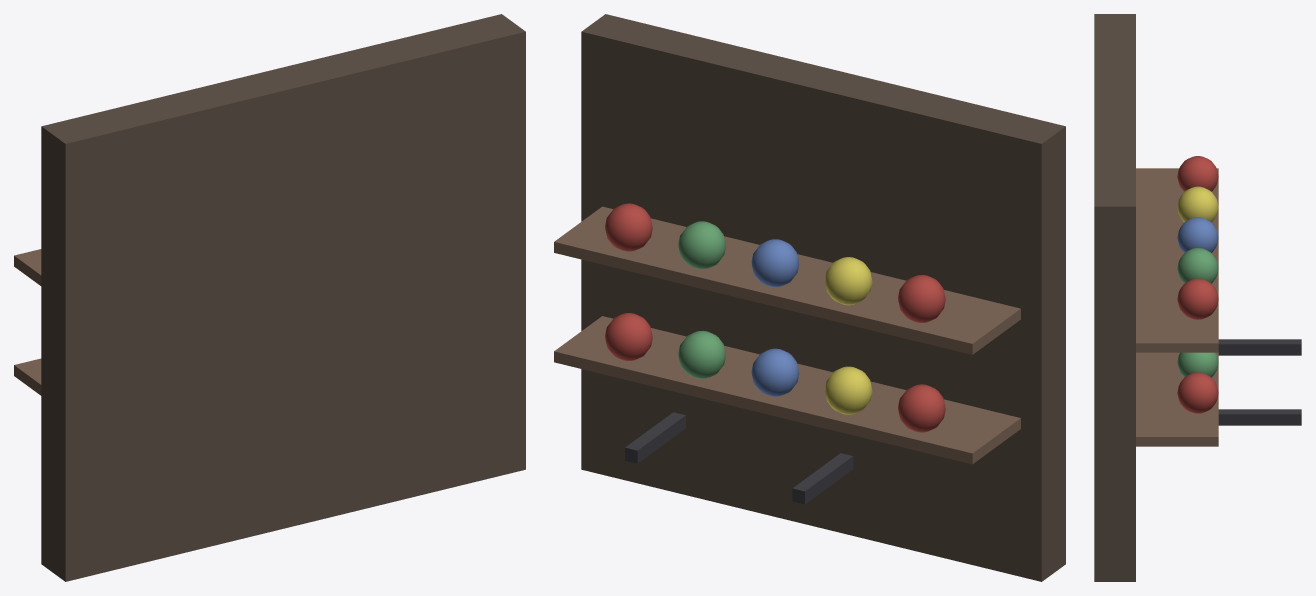
The model's file is prop_shateki.glb.
The picture shows the model from 3 angles, left to right: view 1: azimuth 30°, elevation 25°; view 2: azimuth 150°, elevation 25°; view 3: azimuth 270°, elevation 25°; orthographic projection. The views are drawn at different scales.
Visible parts, largest first — view 1: shateki; view 2: shateki; view 3: shateki.
Boxes of the visible parts, bbox=[...] form: shateki: bbox=[14, 14, 525, 581]; shateki: bbox=[554, 14, 1065, 581]; shateki: bbox=[1094, 14, 1301, 581].
Bounding box in the file's own units: 2.2 × 2 × 1.
